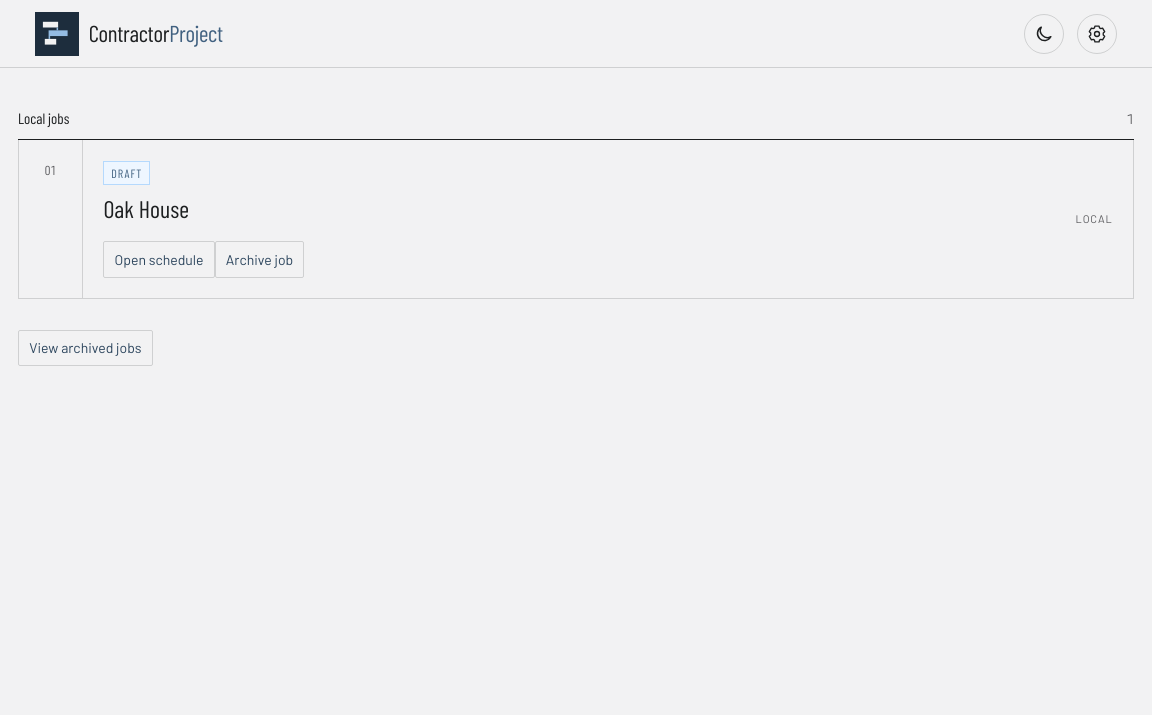
Test: workspace state guards › keeps a typed draft mounted and disabled when refresh removes its task
Step 1. Click the button with aria-label "Open schedule for Oak House" → [159, 259], box [103,241,215,278]
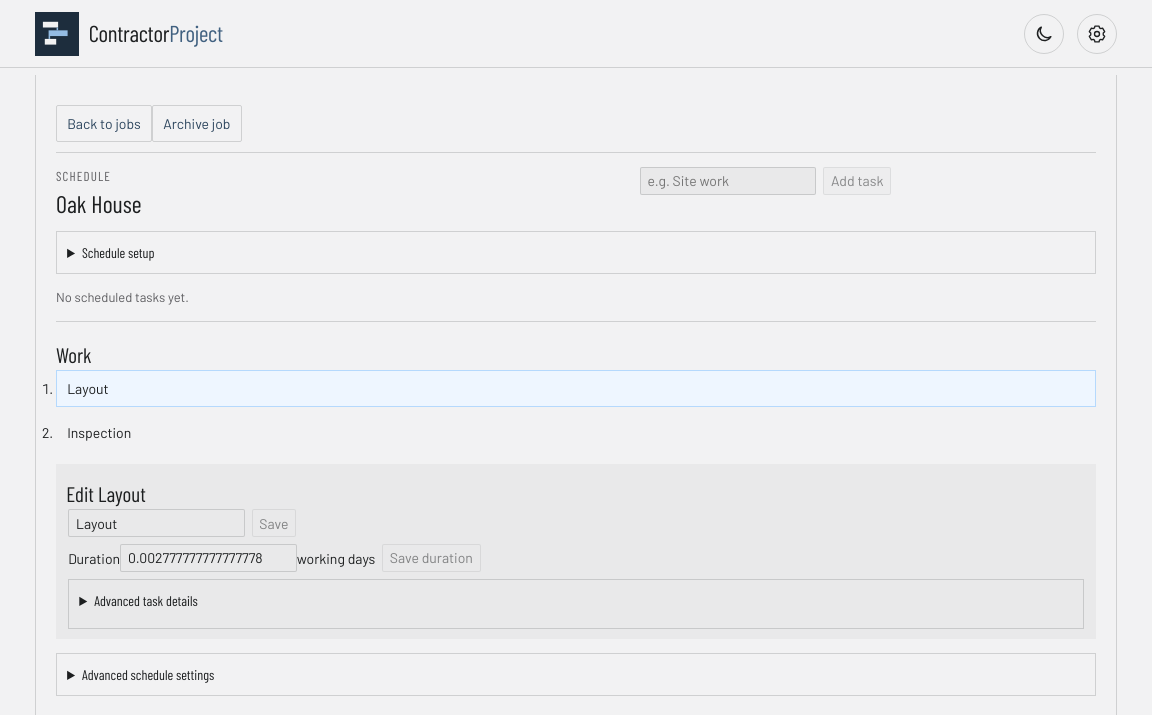
Step 2. Replace the text in the field named "Task name for Layout" with "Layout revised" → [156, 523], box [68,509,245,537]
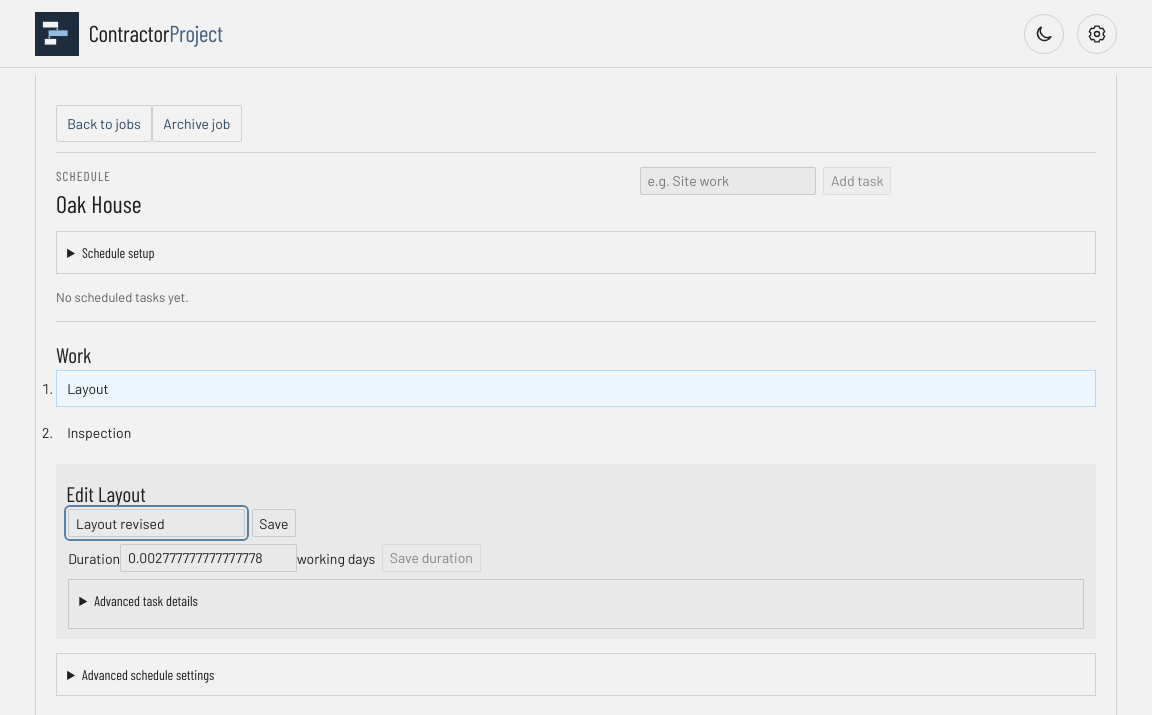
Step 3. Click the button "Save" → [274, 523], box [252,509,296,537]
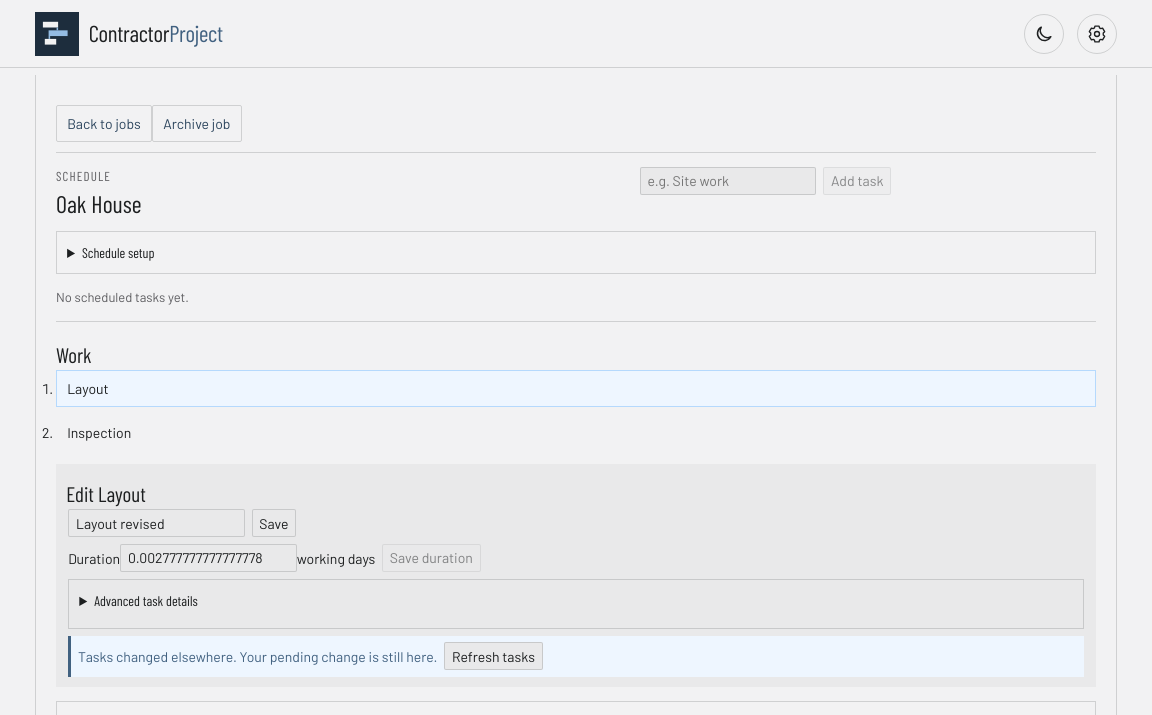
Step 4. Click the button "Refresh tasks" → [493, 656], box [444,642,543,670]
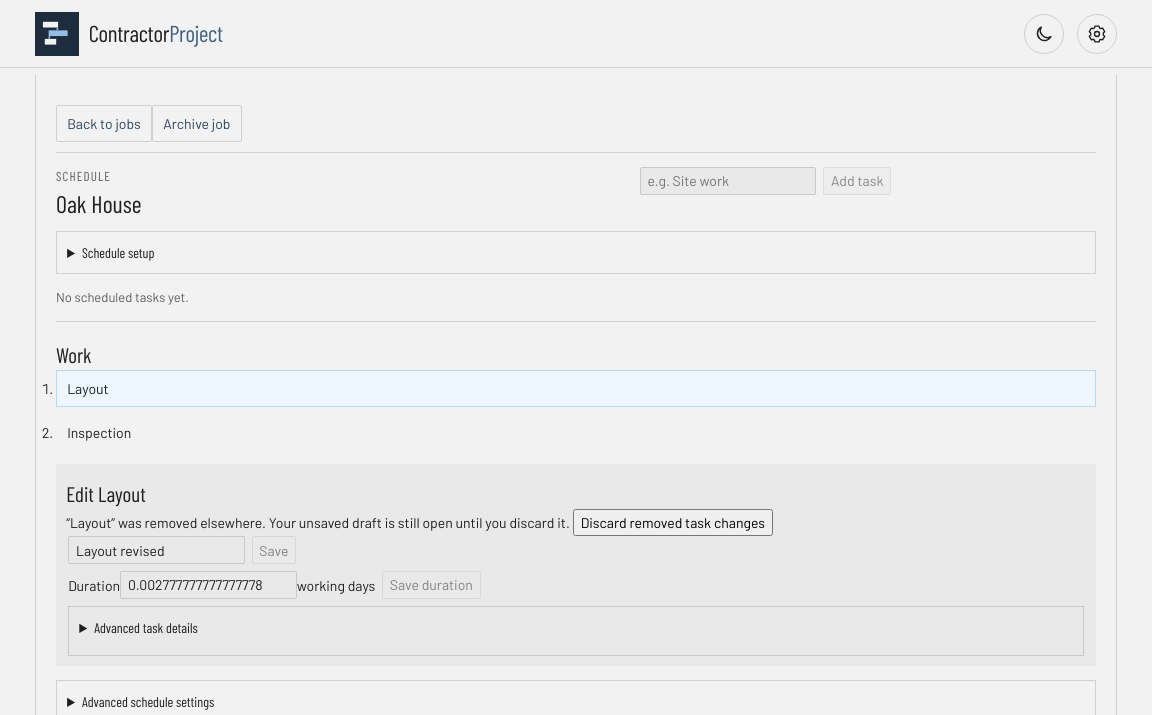
Expected: the field named "Task name for Layout" is disabled, [68,536,245,564]
Expected: the text "was removed elsewhere" is shown, [66,514,570,531]
